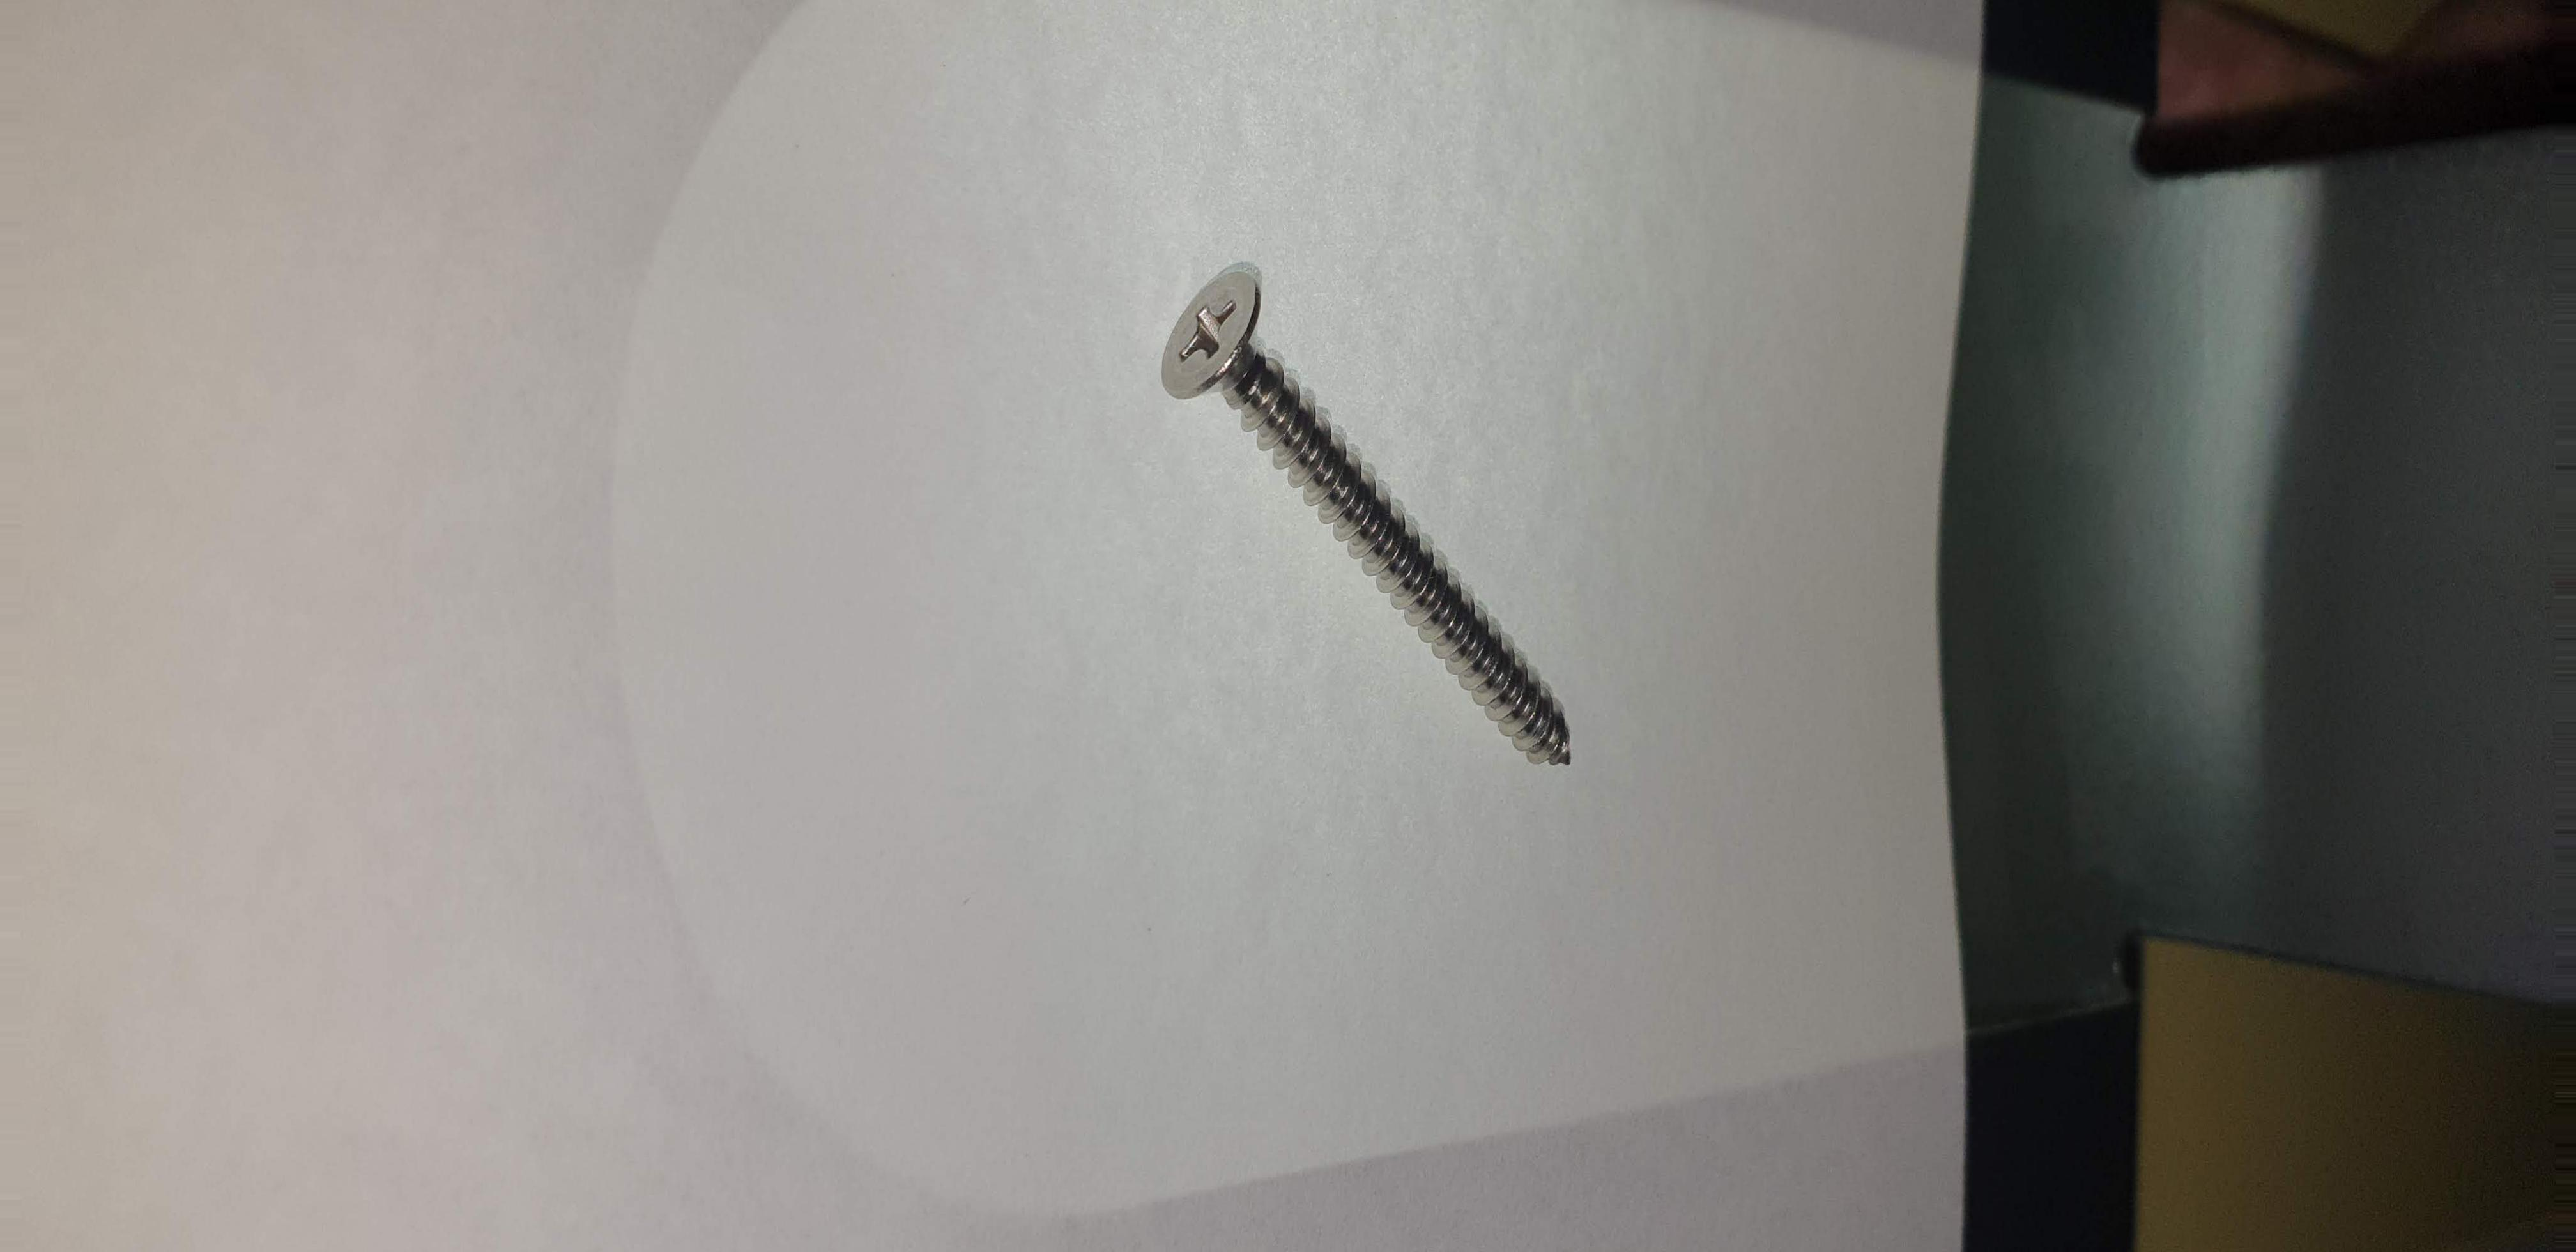fastener: (1066, 200, 1710, 856)
